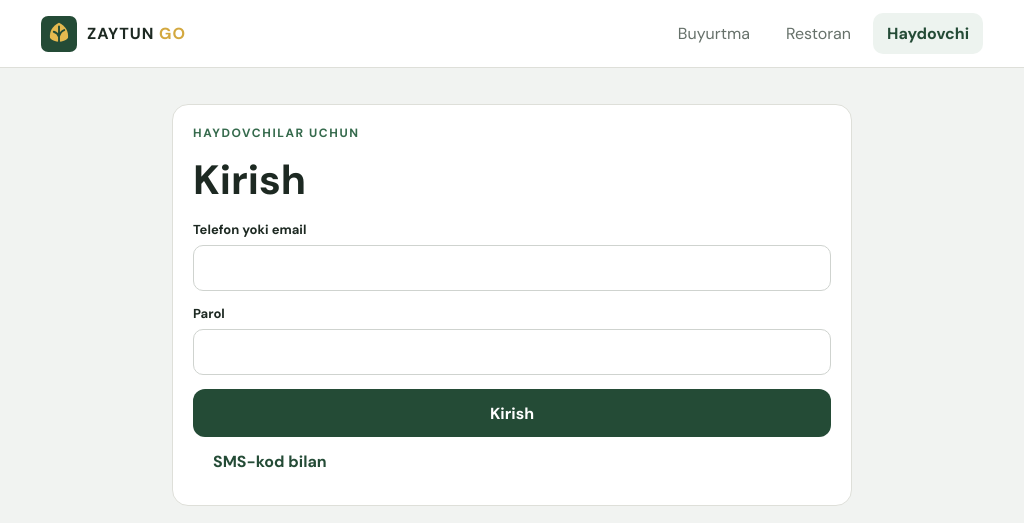
Test: driver phone-OTP login flow (UI, /driver) › D: an OTP-authenticated session with no DRIVER role is denied /driver (same role gate as password sign-in)
Click the button with test id "driver-otp-switch".
click(270, 461)  # box [193,437,347,485]
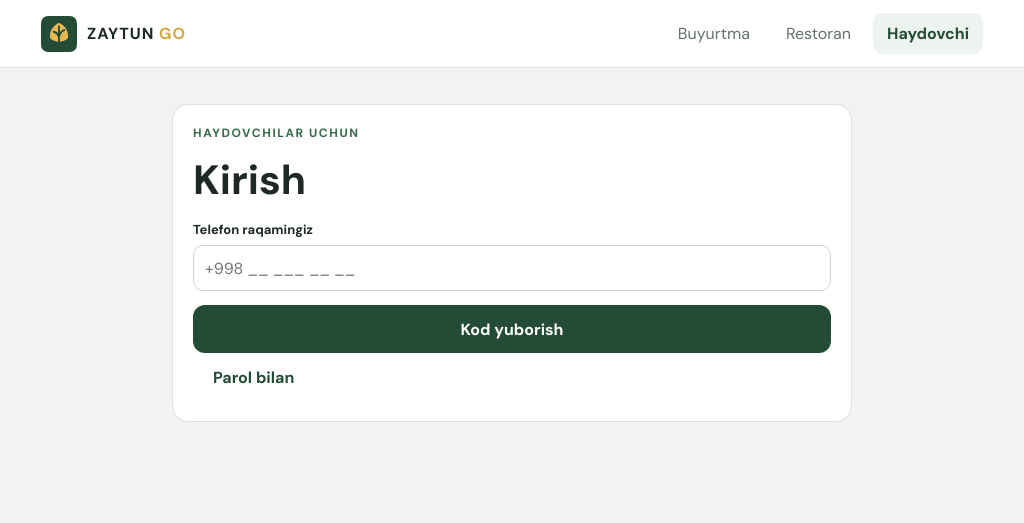
Type "901234567" into the field labelled "Telefon raqamingiz".
click(512, 268); type("901234567")  # box [193,245,831,291]
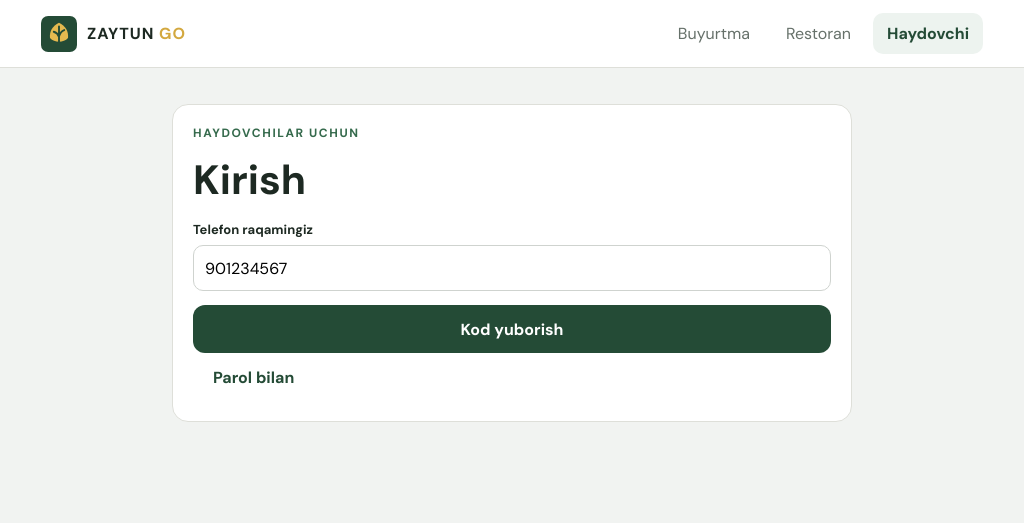
Click the button "Kod yuborish".
click(512, 329)  # box [193,305,831,353]
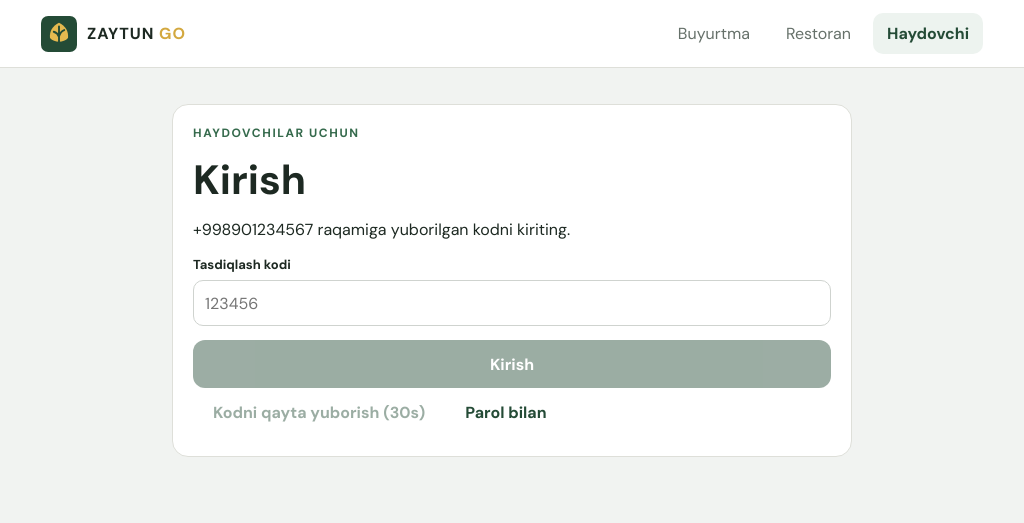
Type "222222" into the field labelled "Tasdiqlash kodi".
click(512, 303); type("222222")  # box [193,280,831,326]
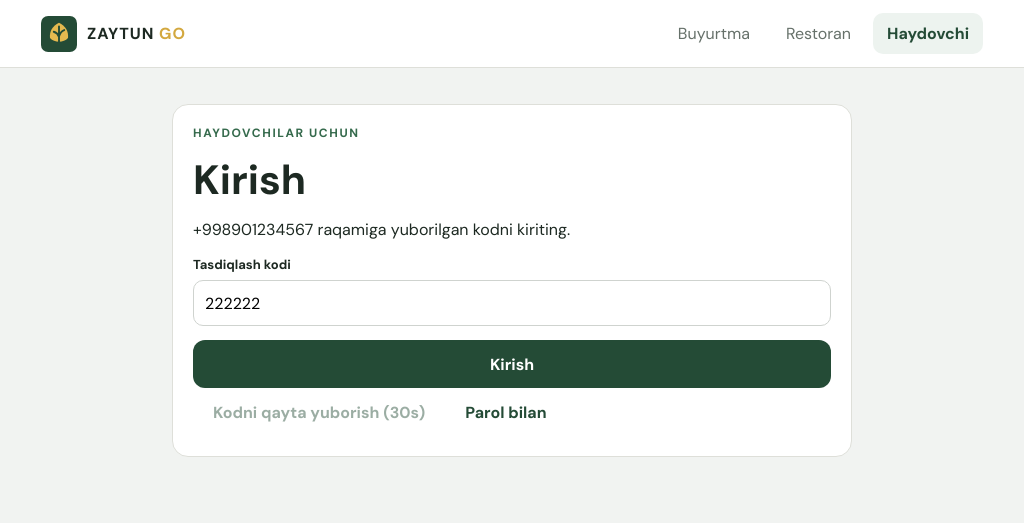
Click the button "Kirish".
click(512, 364)  # box [193,340,831,388]
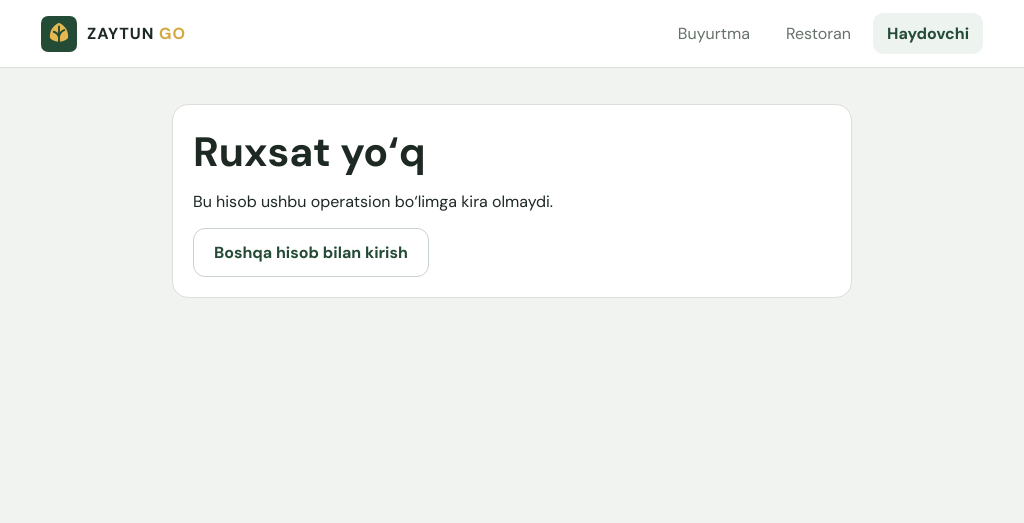
Now the heading "Ruxsat yo‘q" is shown, box [193,125,426,179]
